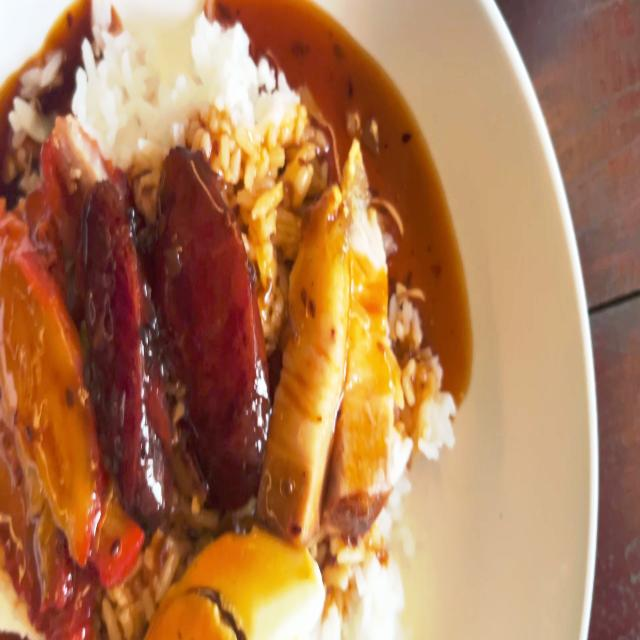boiled_egg: (149, 526, 324, 640)
chainese_sausage: (88, 172, 264, 507), (163, 156, 256, 482), (80, 173, 160, 493)
crispy_pork: (262, 132, 395, 534), (266, 182, 342, 526), (348, 149, 386, 537)
red_pork: (0, 150, 110, 610), (0, 204, 91, 551)
red_pork_and_crispy_pork: (0, 0, 457, 640)
rice: (46, 3, 316, 161), (394, 276, 454, 474), (319, 531, 418, 640)
